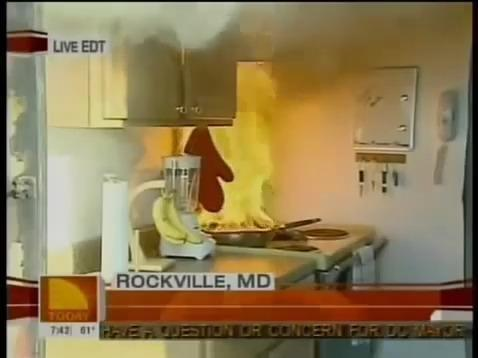fire: (189, 59, 279, 232)
